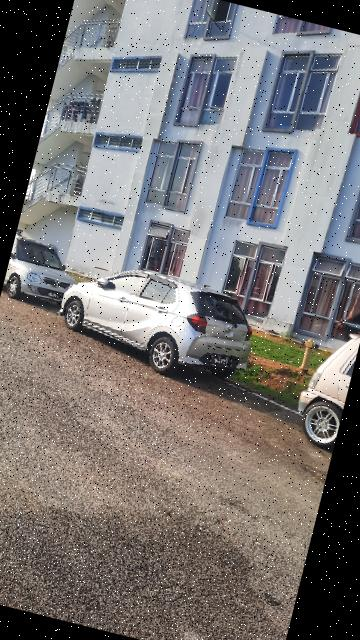License_Plate: (207, 350, 238, 372), (37, 286, 70, 305)
car: (51, 253, 268, 396), (1, 228, 84, 315)
